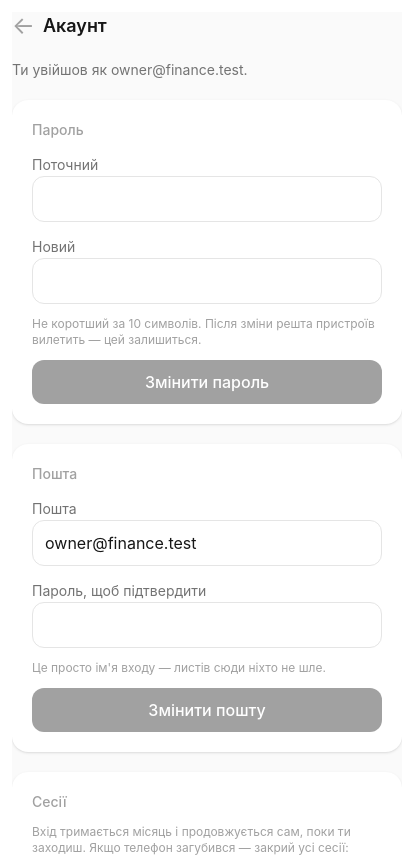
Test case: Account › shows what the server said when the current password is wrong
Type "not it at all" into the password field labelled "Поточний" at (207, 199), box [32,176,382,222]
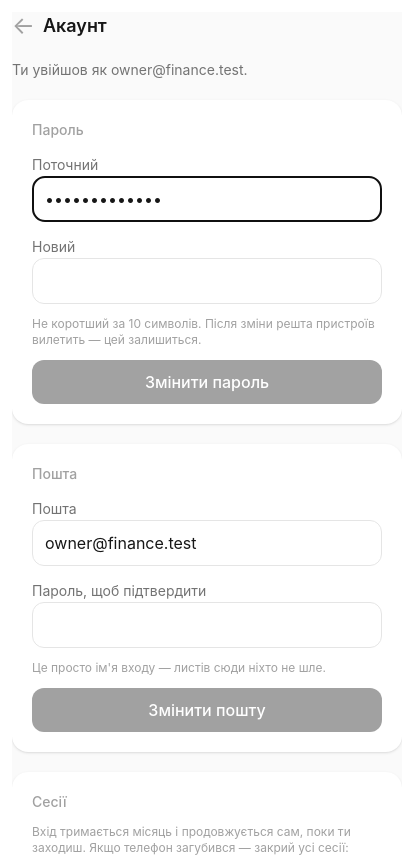
Type "a longer new one" into the password field labelled "Новий" at (207, 281), box [32,258,382,304]
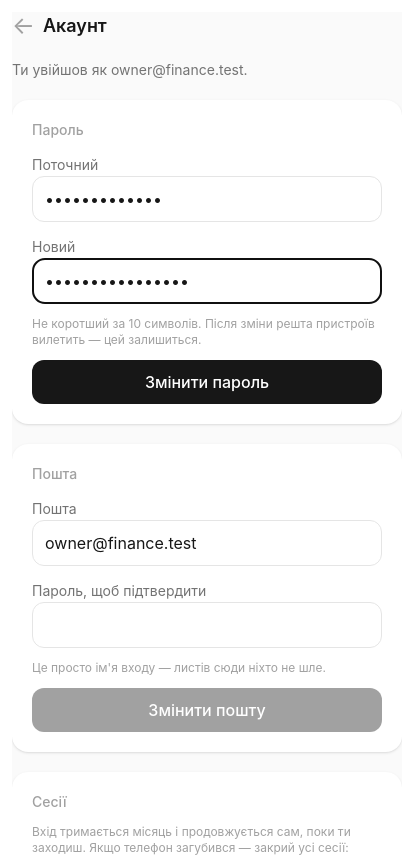
Click the button "Змінити пароль" at (207, 382), box [32,360,382,404]
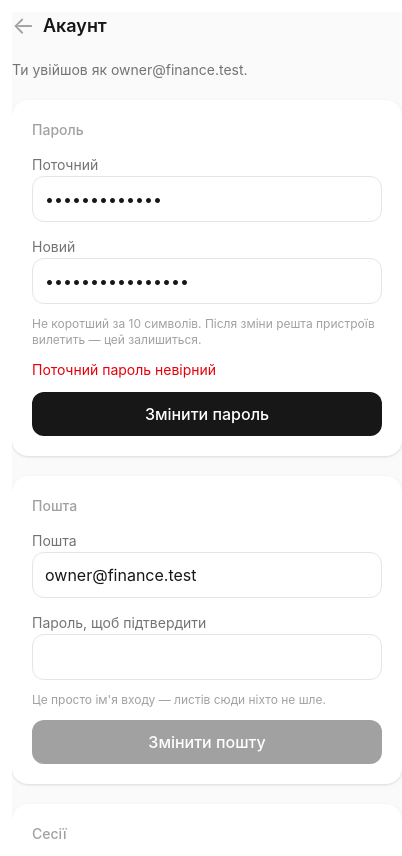
Now the text "Поточний пароль невірний" is shown, box [32,361,216,378]
